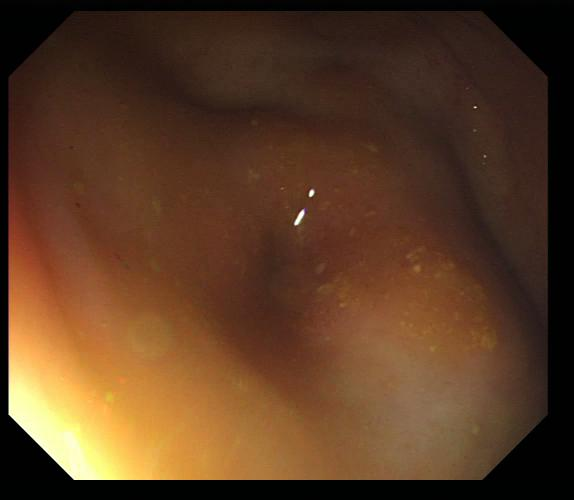polyp: (289, 251, 534, 444), (223, 100, 300, 160)
